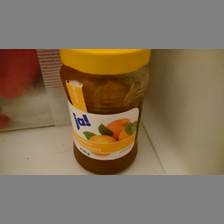jam: (59, 49, 152, 174)
